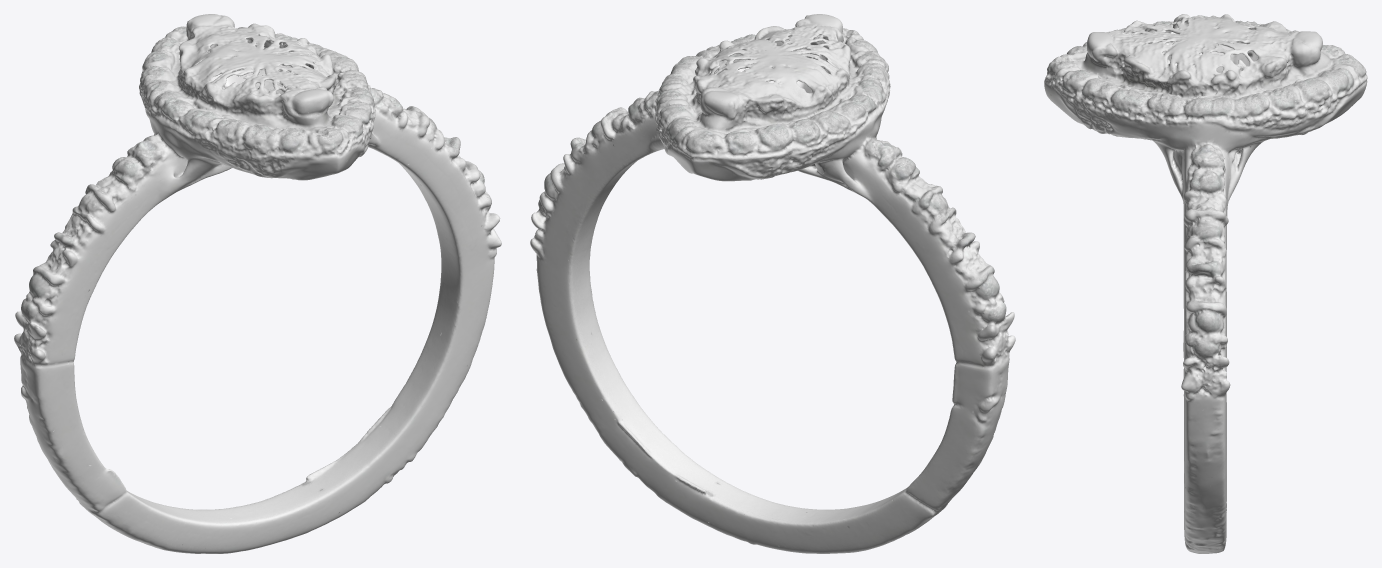
Rendered from ring.glb.
The picture shows the model from 3 angles, left to right: view 1: azimuth 30°, elevation 25°; view 2: azimuth 150°, elevation 25°; view 3: azimuth 270°, elevation 25°; orthographic projection.
Visible parts, largest first — view 1: mesh_0; view 2: mesh_0; view 3: mesh_0.
Part boxes in pixels (x1=…): mesh_0: x1=14, y1=14, x2=501, y2=553; mesh_0: x1=530, y1=14, x2=1015, y2=553; mesh_0: x1=1044, y1=14, x2=1367, y2=553.
Bounding box in the file's own units: 2 × 2 × 1.2.
Materials: 1 (1 with a texture image).
